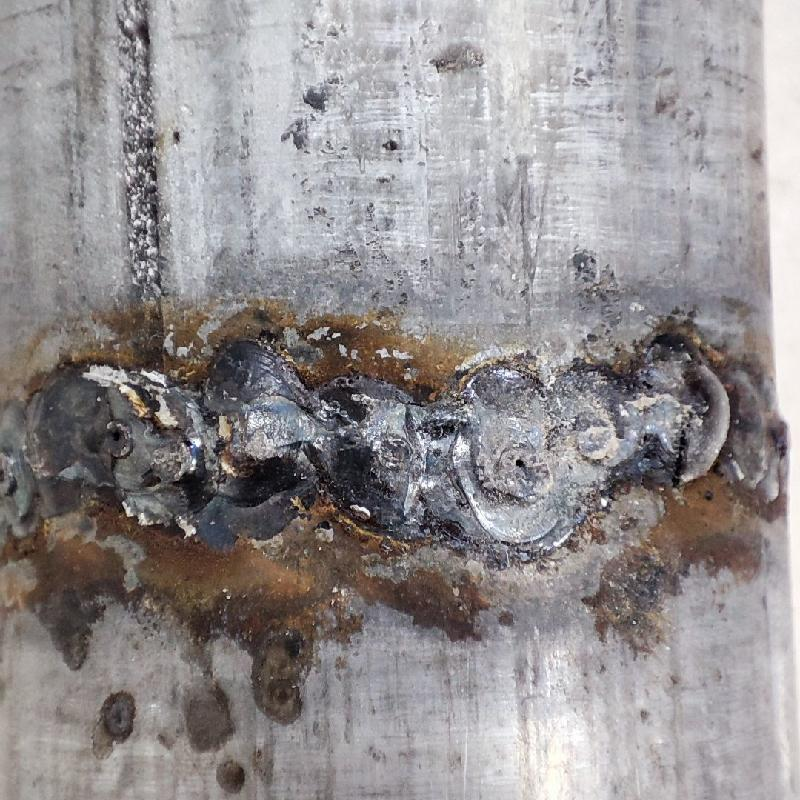Not_fully_soldered: (433, 351, 643, 534)
Surface_pores: (96, 416, 139, 457), (506, 443, 540, 485)
wrong_size: (3, 335, 791, 550)
